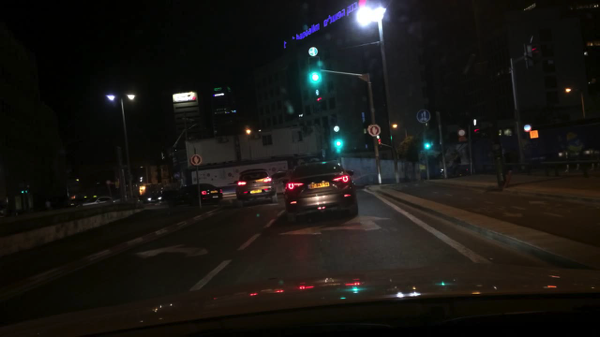car: (282, 159, 358, 226), (233, 167, 276, 207), (166, 182, 224, 209), (75, 195, 114, 208), (438, 164, 470, 179), (271, 170, 290, 195), (112, 194, 141, 205), (144, 191, 164, 205), (160, 190, 181, 202)
traffic light: (524, 42, 540, 69), (307, 58, 322, 84), (315, 87, 322, 103), (335, 135, 343, 148), (424, 139, 431, 150), (473, 125, 480, 134), (377, 137, 381, 145)
traffic sign: (415, 109, 431, 124), (366, 124, 382, 137), (189, 154, 203, 166), (308, 47, 319, 57), (528, 130, 539, 139), (522, 124, 532, 133), (457, 137, 468, 143), (457, 129, 465, 137), (106, 180, 112, 185)
